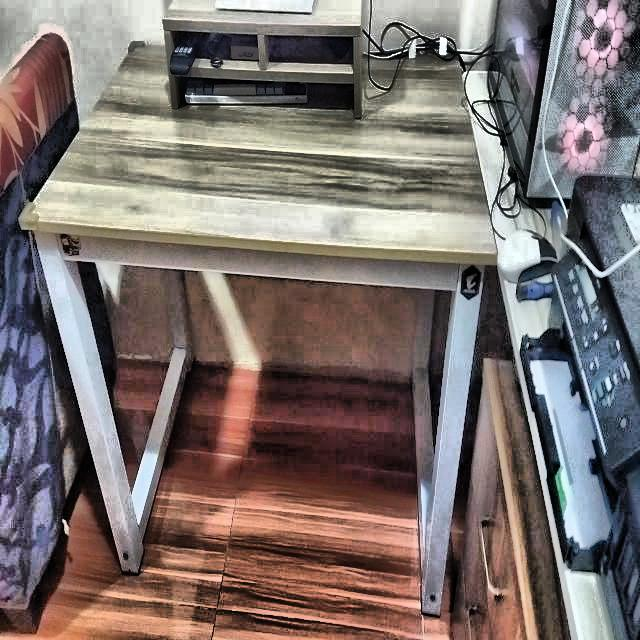mesa: (33, 32, 484, 600)
